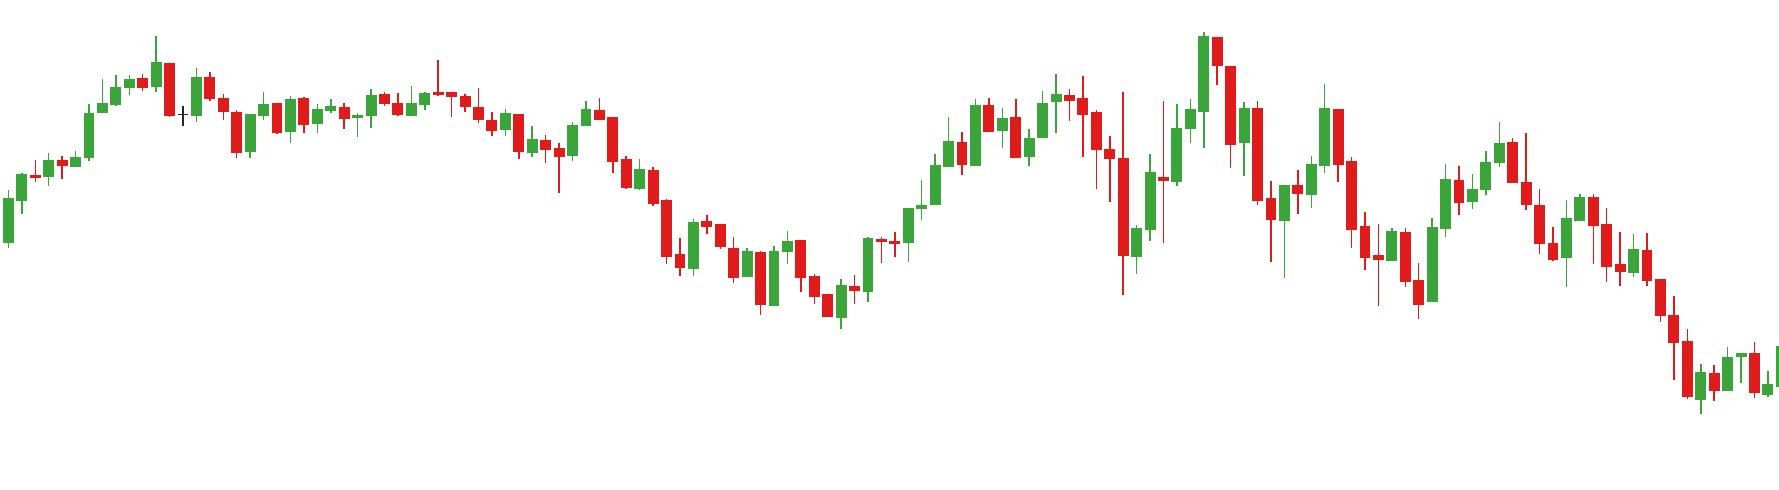buy: (754, 257, 850, 338)
sell: (1051, 29, 1226, 174)
